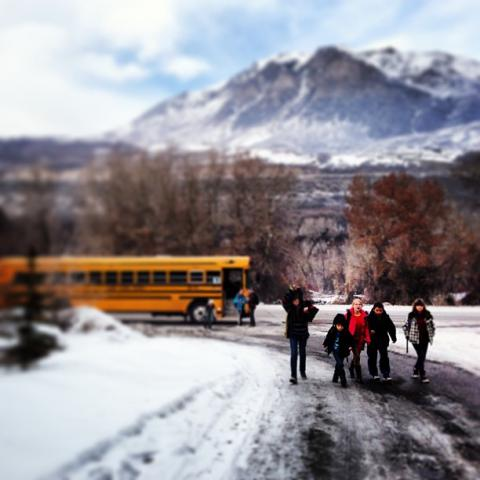bus: (0, 255, 253, 327)
